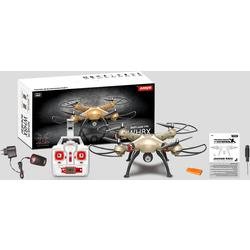drone: (89, 120, 208, 178), (48, 95, 139, 137)
